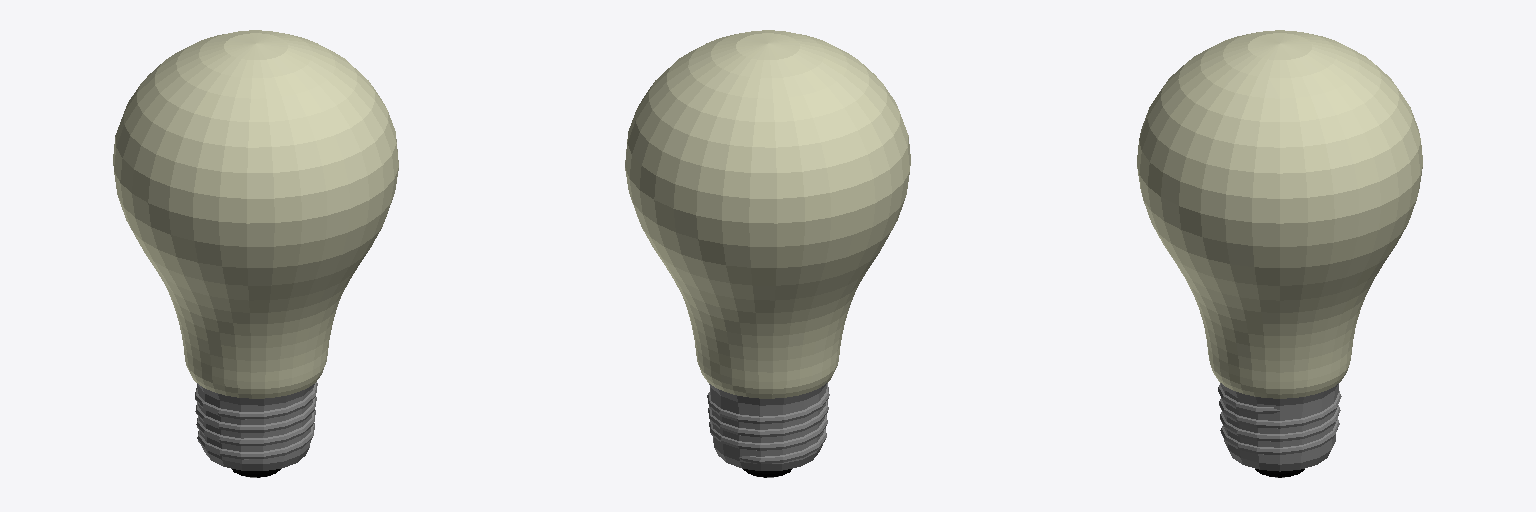
The model's file is lightbulb.obj.
3 views of the same model, side by side, from view 1: azimuth 30°, elevation 25°; view 2: azimuth 150°, elevation 25°; view 3: azimuth 270°, elevation 25° (orthographic).
Parts seen in each view (by area): view 1: bulb, base; view 2: bulb, base; view 3: bulb, base.
Part boxes in pixels (x1,y1,x2,y2): bulb: (113,30,398,398); base: (195,382,317,477); bulb: (625,30,910,398); base: (707,383,829,477); bulb: (1137,30,1422,398); base: (1218,383,1341,477).
Bounding box in the file's own units: 2.8 × 4.58 × 2.8.